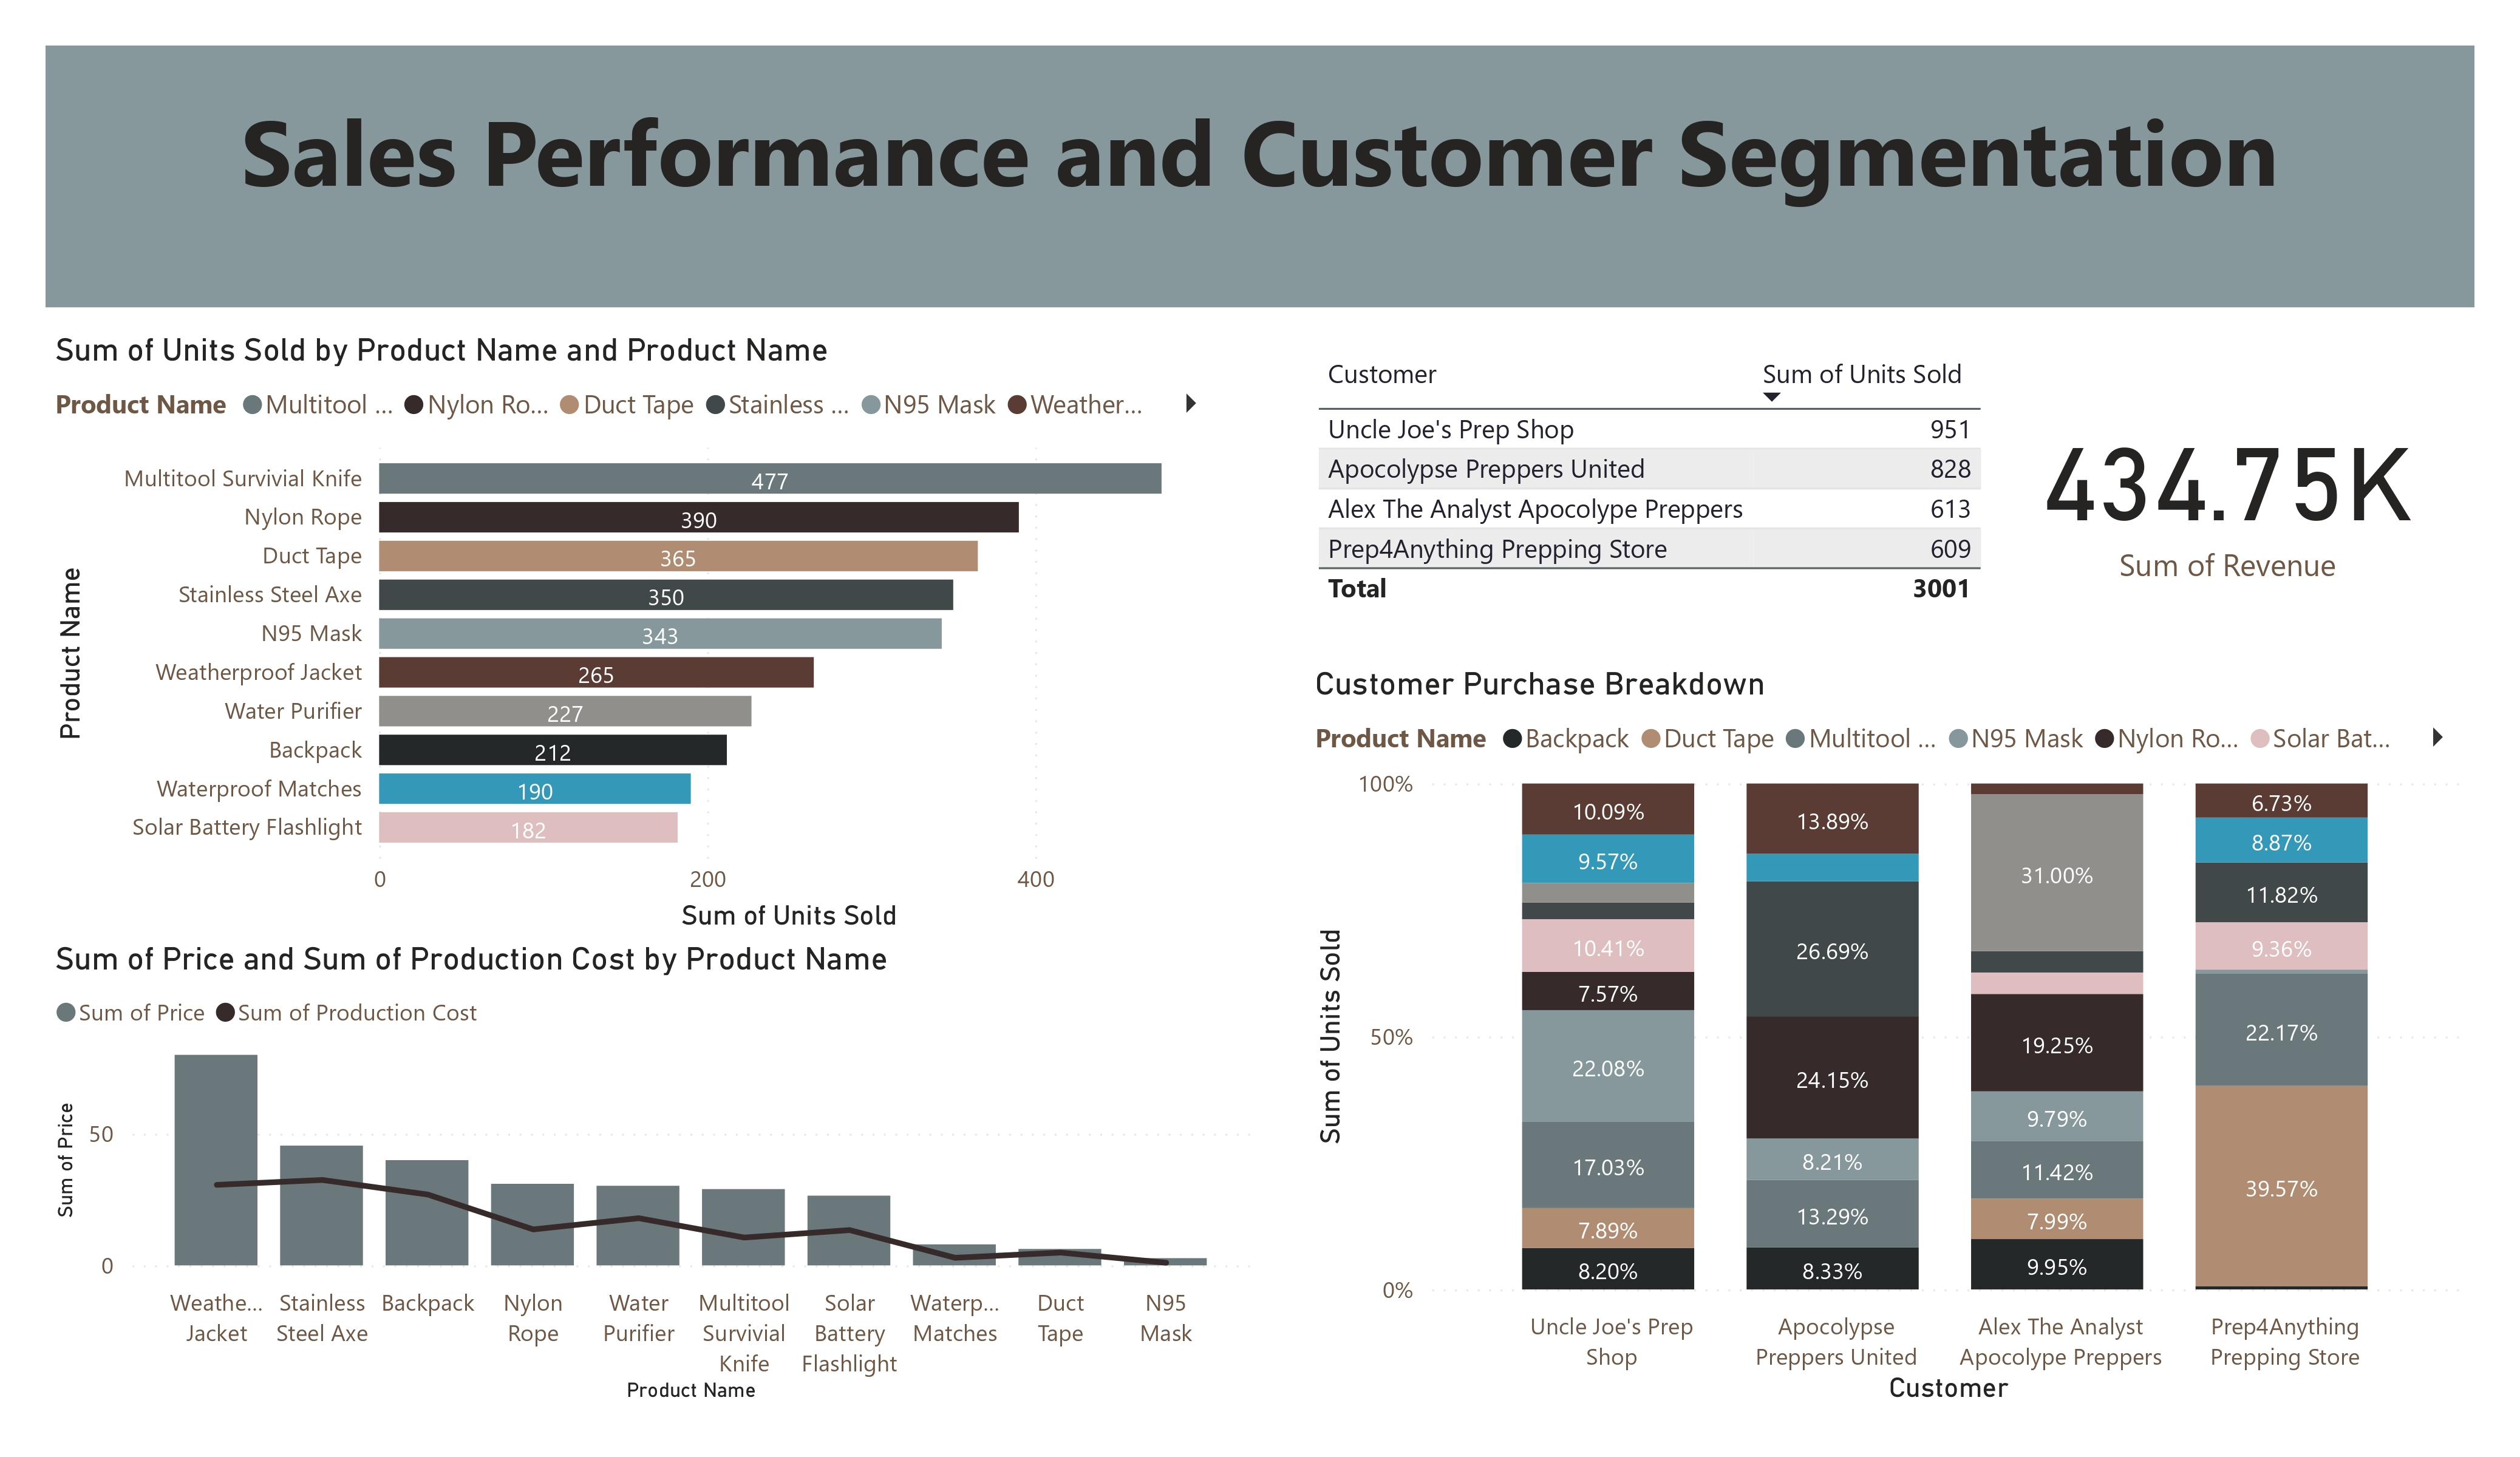

This screenshot's page, from the dashboard's own definition file:
{"tool":"powerbi","page":{"name":"Page 1","canvas":[1280,720],"ordinal":0},"visuals":[{"type":"barChart","fields":{"Category":["Apocolypse Store.Product Name"],"Y":["Sum(Apocolypse Sales.Units Sold)"],"Series":["Apocolypse Store.Product Name"]},"box":[0,150,622.5,321.2],"z":0},{"type":"hundredPercentStackedColumnChart","title":"Customer Purchase Breakdown","fields":{"Category":["Customer Information.Customer"],"Y":["Sum(Apocolypse Sales.Units Sold)"],"Series":["Apocolypse Store.Product Name"]},"box":[665,303.8,615,416.2],"z":1000},{"type":"lineClusteredColumnComboChart","fields":{"Category":["Apocolypse Store.Product Name"],"Y":["Sum(Apocolypse Store.Price)"],"Y2":["Sum(Apocolypse Store.Production Cost)"]},"box":[0,471.2,640,248.8],"z":3000},{"type":"card","fields":{"Values":["Sum(Apocolypse Store.Revenue)"]},"box":[1030,161.2,240,147.5],"z":5000},{"type":"tableEx","fields":{"Values":["Customer Information.Customer","Sum(Apocolypse Sales.Units Sold)"]},"box":[665,157.5,373.8,153.8],"z":6000},{"type":"textbox","box":[0,0,1280,137.5],"z":6001}]}

Visuals, with their boxes on the page's 1280x720 design canvas (x1, y1, x2, y2). These are canvas units, not pixel positions in the 2520x1457 screenshot, which may show the page scaled, cropped or inside an application window:
barChart - Apocolypse Store.Product Name x Sum(Apocolypse Sales.Units Sold): {"x1": 0, "y1": 150, "x2": 622, "y2": 471}
"Customer Purchase Breakdown" hundredPercentStackedColumnChart: {"x1": 665, "y1": 304, "x2": 1280, "y2": 720}
lineClusteredColumnComboChart - Apocolypse Store.Product Name x Sum(Apocolypse Store.Price): {"x1": 0, "y1": 471, "x2": 640, "y2": 720}
card - Sum(Apocolypse Store.Revenue): {"x1": 1030, "y1": 161, "x2": 1270, "y2": 309}
tableEx - Customer Information.Customer x Sum(Apocolypse Sales.Units Sold): {"x1": 665, "y1": 158, "x2": 1039, "y2": 311}
textbox: {"x1": 0, "y1": 0, "x2": 1280, "y2": 138}
